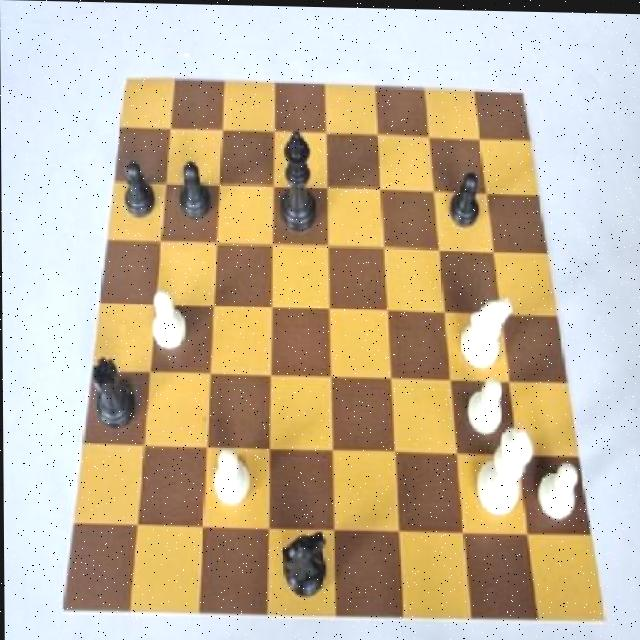black-bishop: (275, 126, 320, 241)
black-king: (275, 526, 331, 606)
black-knight: (119, 148, 158, 233), (174, 154, 215, 222), (450, 166, 481, 231)
black-queen: (88, 349, 136, 439)
white-bishop: (469, 422, 538, 529)
white-knight: (458, 372, 510, 444), (206, 444, 255, 516), (146, 284, 193, 357), (531, 457, 580, 522)
